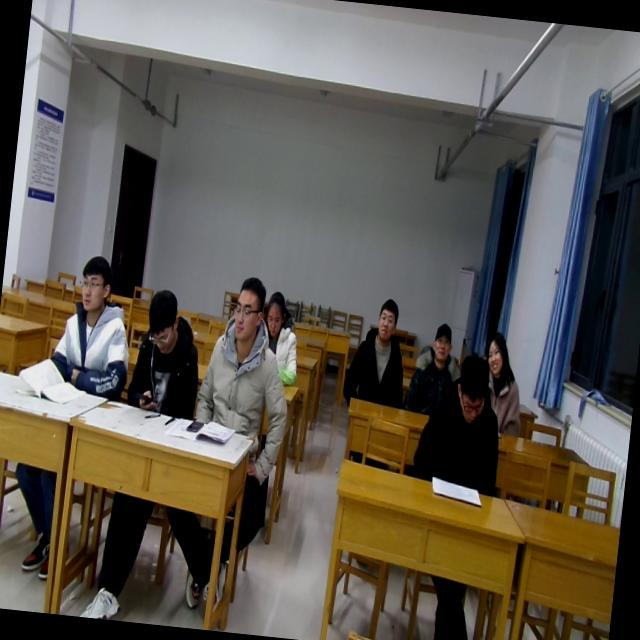down: (449, 350, 493, 424), (141, 283, 185, 355), (258, 282, 290, 341)
lookup: (227, 270, 272, 347), (71, 251, 115, 316), (480, 328, 512, 376), (372, 294, 400, 346), (426, 316, 456, 362)
sit: (190, 272, 302, 438), (407, 348, 511, 496), (46, 249, 140, 400), (122, 282, 209, 420), (339, 294, 414, 412), (401, 317, 470, 418), (474, 328, 533, 440), (256, 287, 306, 388)
